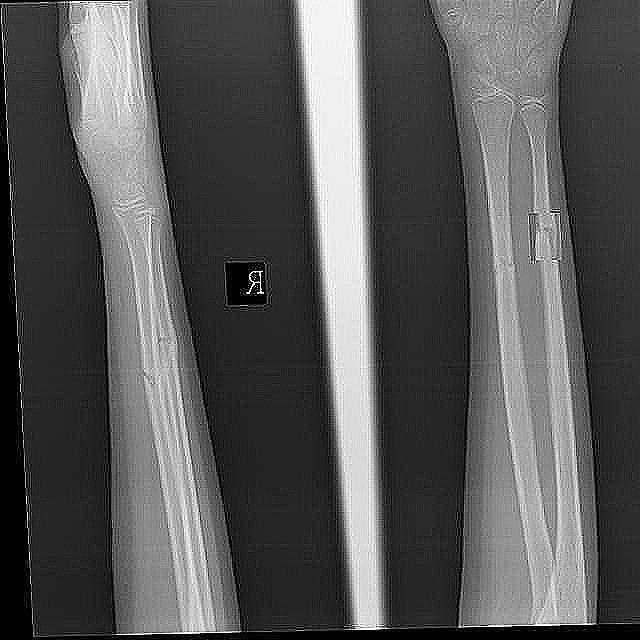bone: (526, 215, 559, 263), (132, 360, 160, 398), (150, 324, 178, 362), (486, 251, 516, 284)
